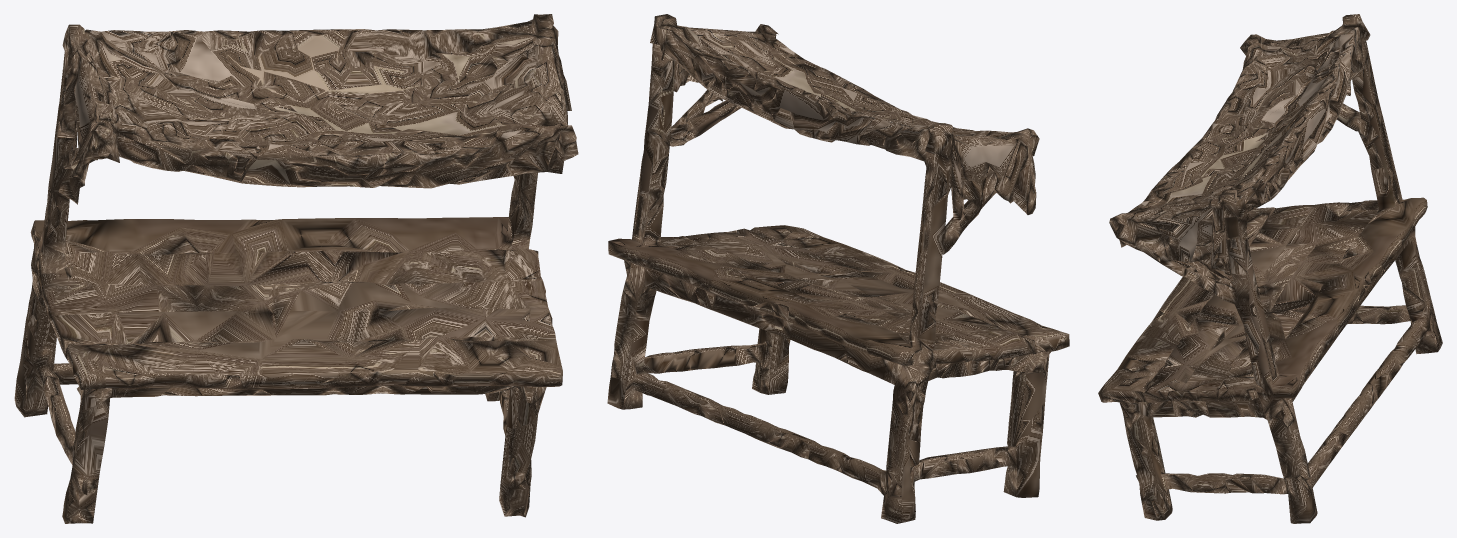
File: lamp-workbench-pixal3d.glb
3 renders of one model, left to right at view 1: azimuth 30°, elevation 25°; view 2: azimuth 150°, elevation 25°; view 3: azimuth 270°, elevation 25°, orthographic. The views are drawn at different scales.
Visible parts, largest first — view 1: geometry_0; view 2: geometry_0; view 3: geometry_0.
Boxes of the visible parts, x1,y1,x2,y2 form: geometry_0: (14,14,578,523); geometry_0: (607,14,1069,523); geometry_0: (1098,14,1442,523).
Bounding box in the file's own units: 2.37 × 2.2 × 1.82.
Materials: 1 (1 with a texture image).
